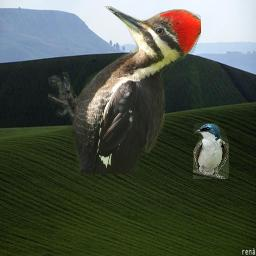Swallow: (193, 123, 229, 179)
Woodpecker: (48, 6, 201, 174)
